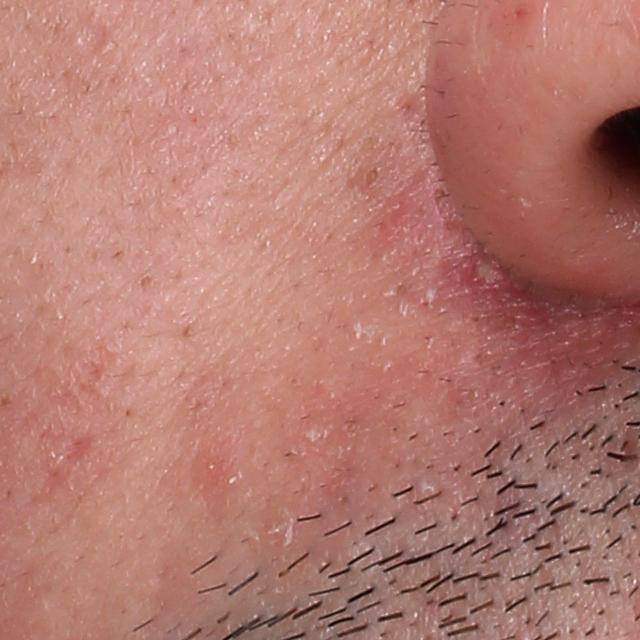atrophic_scar: (55, 431, 100, 484)
comedo: (362, 162, 384, 184)
